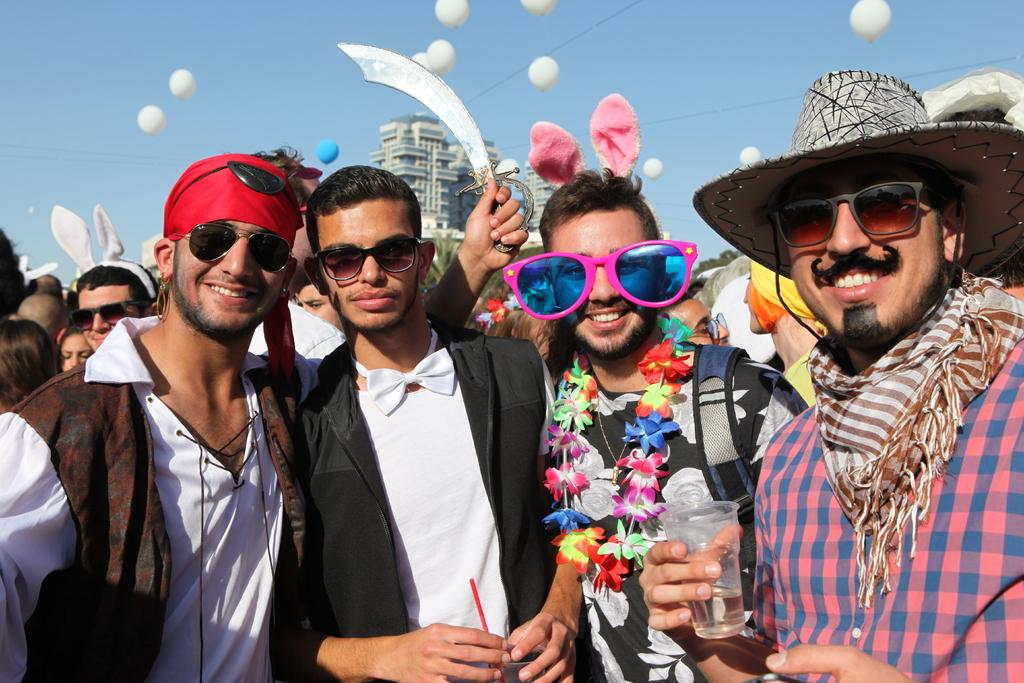Hat: (690, 67, 1022, 351)
